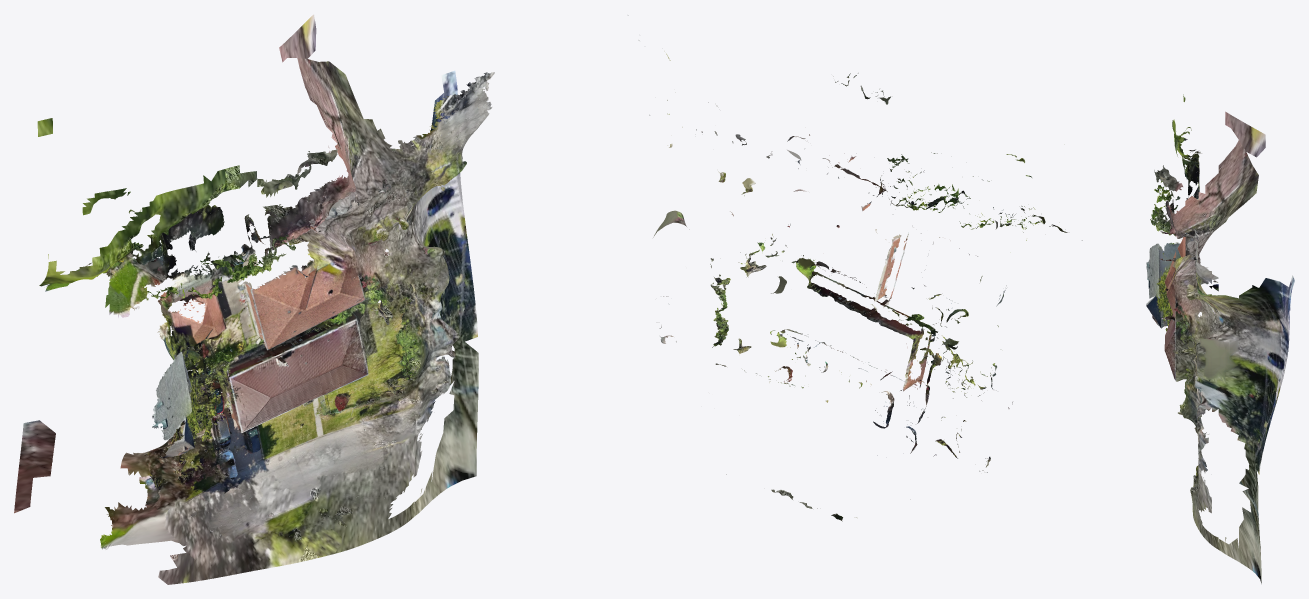
The picture shows the model from 3 angles, left to right: view 1: azimuth 30°, elevation 25°; view 2: azimuth 150°, elevation 25°; view 3: azimuth 270°, elevation 25°; orthographic projection. The views are drawn at different scales.
Visible parts, largest first — view 1: mesh_0, mesh_0_1, mesh_0_2, mesh_0_4, mesh_0_3, mesh_0_5; view 2: mesh_0, mesh_0_1, mesh_0_2, mesh_0_5; view 3: mesh_0, mesh_0_1, mesh_0_4, mesh_0_3, mesh_0_5, mesh_0_2.
Part boxes in pixels (box(x1,y1,x2,y2)): mesh_0: box(14, 14, 490, 584); mesh_0_1: box(69, 94, 491, 562); mesh_0_2: box(45, 118, 443, 515); mesh_0_4: box(112, 91, 490, 541); mesh_0_3: box(105, 72, 494, 522); mesh_0_5: box(100, 82, 488, 561); mesh_0: box(653, 92, 1082, 521); mesh_0_1: box(664, 51, 1031, 498); mesh_0_2: box(677, 151, 1039, 495); mesh_0_5: box(660, 84, 1062, 456); mesh_0: box(1146, 94, 1294, 583); mesh_0_1: box(1146, 138, 1203, 487); mesh_0_4: box(1152, 129, 1199, 484); mesh_0_3: box(1149, 149, 1218, 430); mesh_0_5: box(1151, 127, 1206, 433); mesh_0_2: box(1151, 164, 1217, 492).
Size of the model in its own units: 72.28 by 72.28 by 25.05.
Materials: 18 (18 with a texture image).
